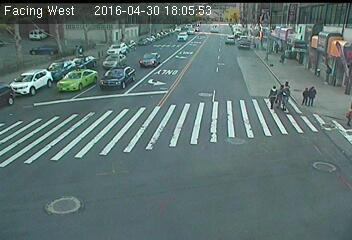neg: (236, 58, 255, 84), (224, 126, 242, 151), (24, 63, 42, 87), (288, 49, 304, 71), (105, 65, 121, 85), (167, 43, 182, 63), (129, 104, 144, 124), (224, 34, 235, 49), (206, 25, 216, 39), (85, 44, 95, 57), (71, 43, 80, 55)
pos: (275, 77, 300, 111), (305, 83, 323, 107), (265, 82, 283, 106), (274, 83, 291, 106), (299, 85, 312, 103), (271, 41, 282, 55)
